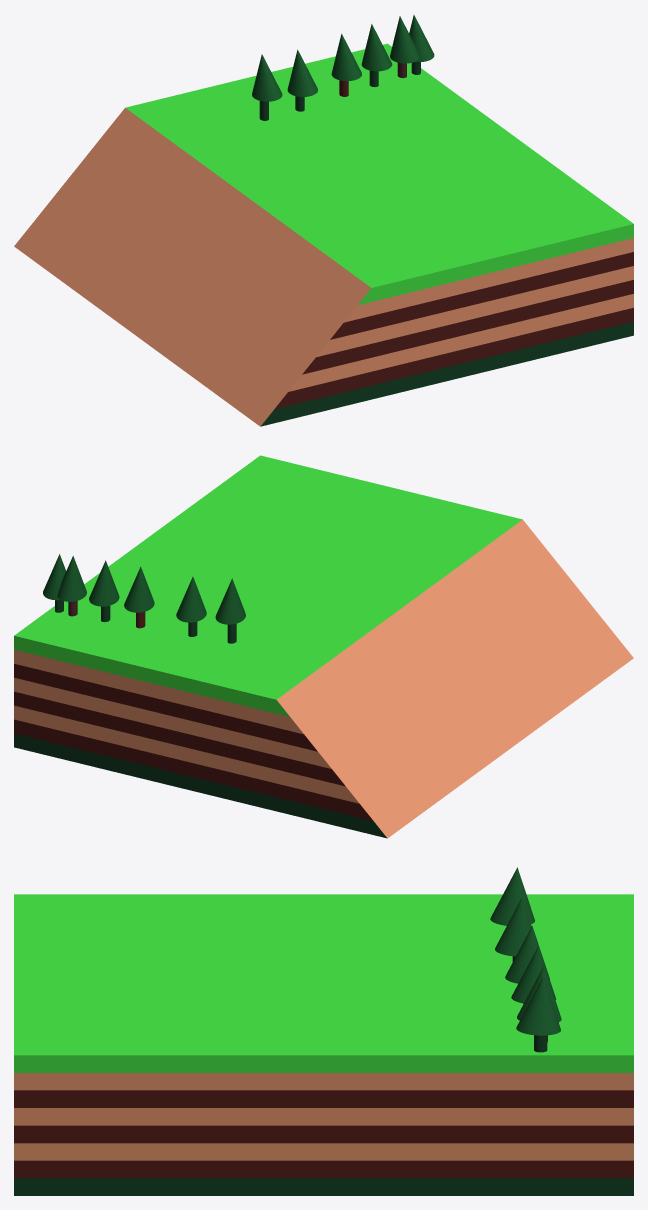
Rendered from secondsideofeq.gltf.
The picture shows the model from 3 angles, top to bottom: view 1: azimuth 30°, elevation 25°; view 2: azimuth 150°, elevation 25°; view 3: azimuth 270°, elevation 25°; orthographic projection. The views are drawn at different scales.
Visible parts, largest first — view 1: Cube.004, Cylinder.005, Cylinder.002, Cylinder.001, Cylinder.004, Cylinder, Cylinder.003; view 2: Cube.004, Cylinder.005, Cylinder.002, Cylinder.001, Cylinder.004, Cylinder, Cylinder.003; view 3: Cube.004, Cylinder.003, Cylinder.005, Cylinder.004, Cylinder.002, Cylinder.001, Cylinder.
Part boxes in pixels (box(x1,y1,x2,y2)): Cube.004: box(14, 43, 633, 426); Cylinder.005: box(252, 54, 282, 120); Cylinder.002: box(331, 33, 361, 96); Cylinder.001: box(361, 24, 392, 86); Cylinder.004: box(287, 49, 317, 111); Cylinder: box(390, 16, 419, 78); Cylinder.003: box(409, 15, 434, 74); Cube.004: box(14, 455, 633, 838); Cylinder.005: box(215, 578, 245, 643); Cylinder.002: box(124, 566, 154, 628); Cylinder.001: box(89, 560, 119, 622); Cylinder.004: box(176, 576, 206, 636); Cylinder: box(57, 556, 86, 616); Cylinder.003: box(43, 554, 65, 612); Cube.004: box(14, 894, 633, 1195); Cylinder.003: box(516, 976, 560, 1052); Cylinder.005: box(490, 867, 534, 925); Cylinder.004: box(495, 898, 531, 961); Cylinder.002: box(505, 926, 549, 1003); Cylinder.001: box(511, 946, 556, 1003); Cylinder: box(517, 966, 561, 1042).
Size of the model in its own units: 14.24 by 6.35 by 16.
